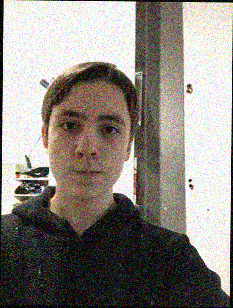without_mask: (47, 103, 129, 202)
